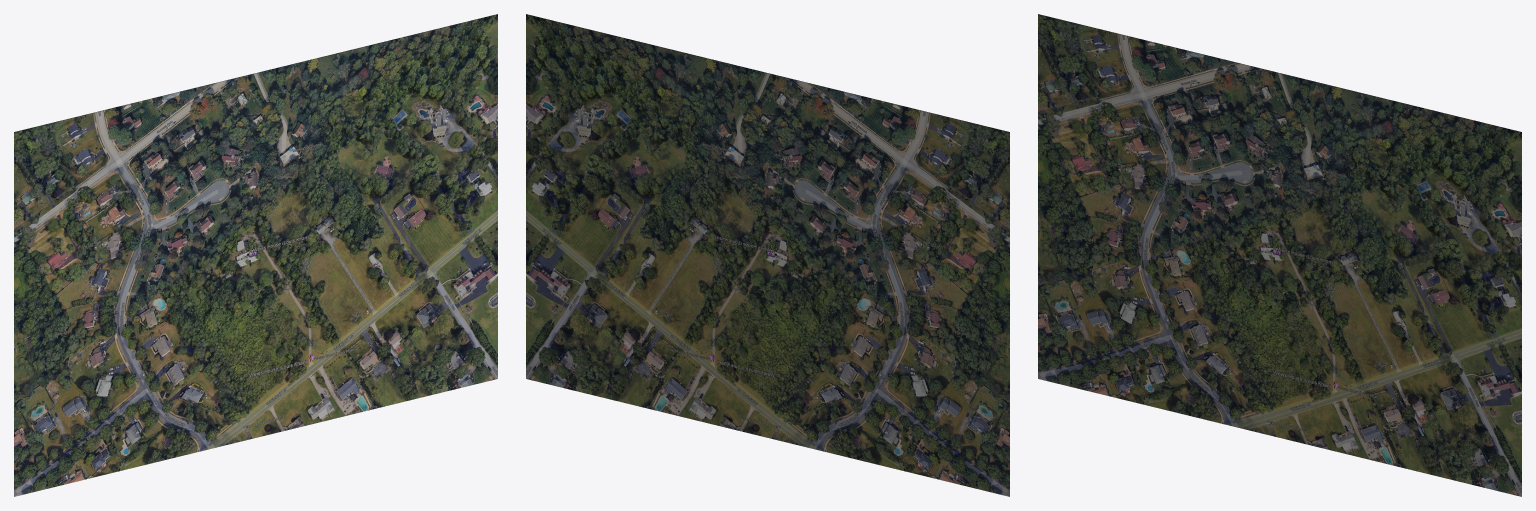
Rendered from weiss-optimized.glb.
3 renders of one model, left to right at view 1: azimuth 30°, elevation 25°; view 2: azimuth 150°, elevation 25°; view 3: azimuth 330°, elevation 25°, orthographic.
Visible parts, largest first — view 1: Image; view 2: Image; view 3: Image.
Part boxes in pixels (x1,y1,x2,y2): Image: (14,14,497,496); Image: (526,14,1009,496); Image: (1038,14,1521,496).
Size of the model in its own units: 19381 by 13966 by 332.
15 materials, 15 textured.
